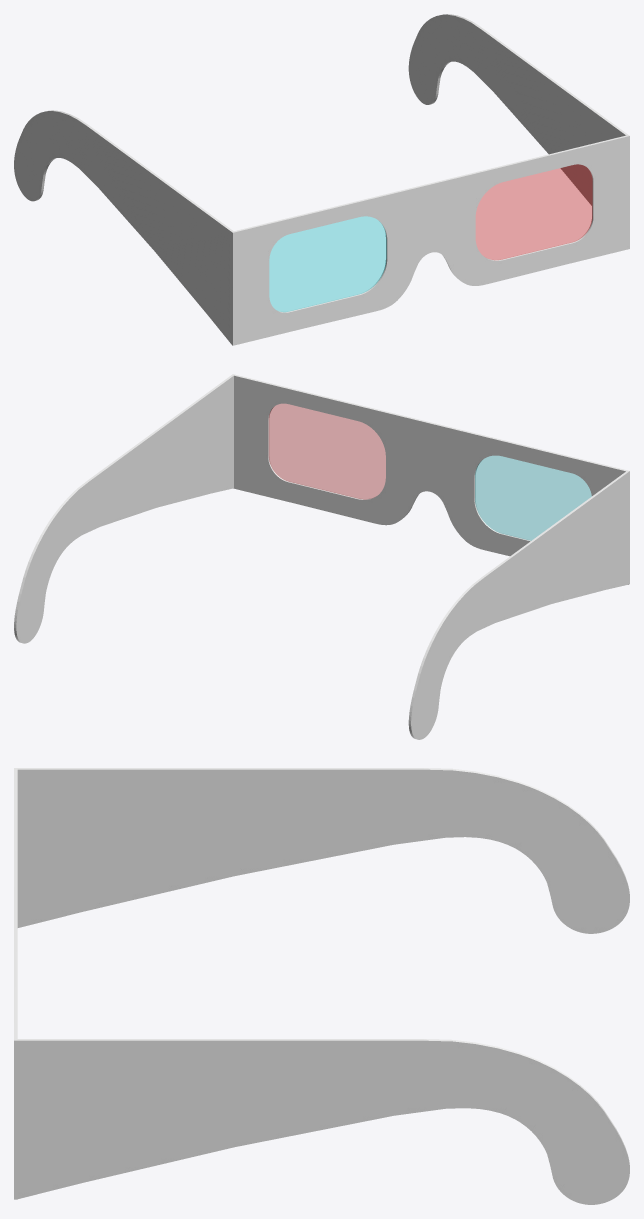
Rendered from new_3d-anaglyph_v20.gltf.
The picture shows the model from 3 angles, top to bottom: view 1: azimuth 30°, elevation 25°; view 2: azimuth 150°, elevation 25°; view 3: azimuth 270°, elevation 25°; orthographic projection. The views are drawn at different scales.
Parts seen in each view (by area): view 1: glasses, cyan, magenta; view 2: glasses, magenta, cyan; view 3: glasses.
Part boxes in pixels (bbox=[...]): glasses: bbox=[14, 14, 629, 345]; cyan: bbox=[269, 216, 386, 311]; magenta: bbox=[476, 164, 592, 259]; glasses: bbox=[14, 374, 629, 739]; magenta: bbox=[269, 404, 385, 499]; cyan: bbox=[475, 456, 591, 540]; glasses: bbox=[14, 768, 629, 1204].
Bounding box in the file's own units: 5.05 × 1.42 × 4.83.
Materials: 3 (1 with a texture image).
